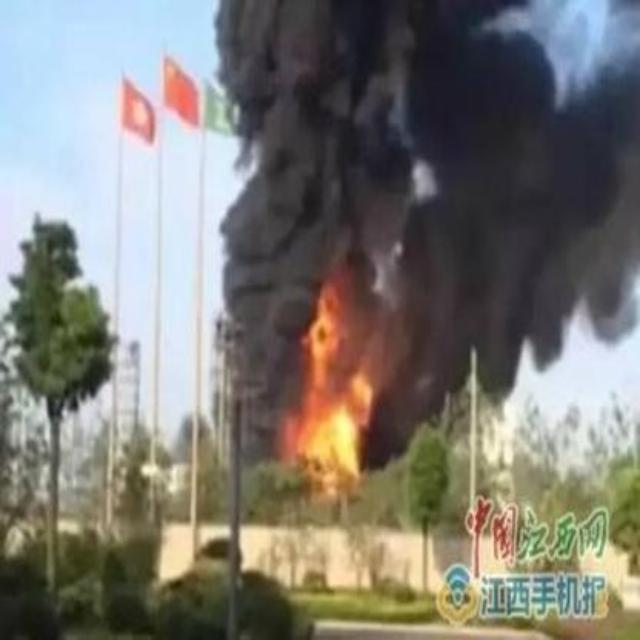Fire: (291, 280, 375, 492)
Smoke: (306, 3, 640, 280), (218, 4, 294, 456)
